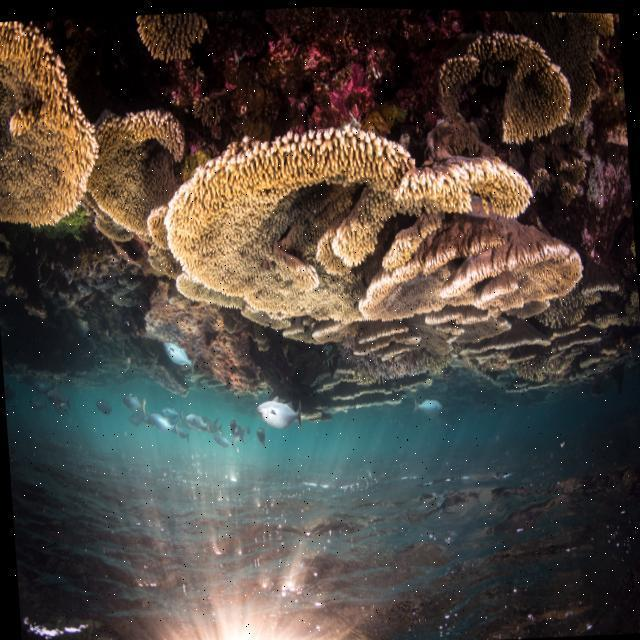Healthy Coral: (77, 75, 562, 378), (0, 15, 97, 240), (432, 29, 608, 142)
